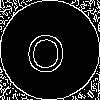O: (25, 25, 67, 73)
